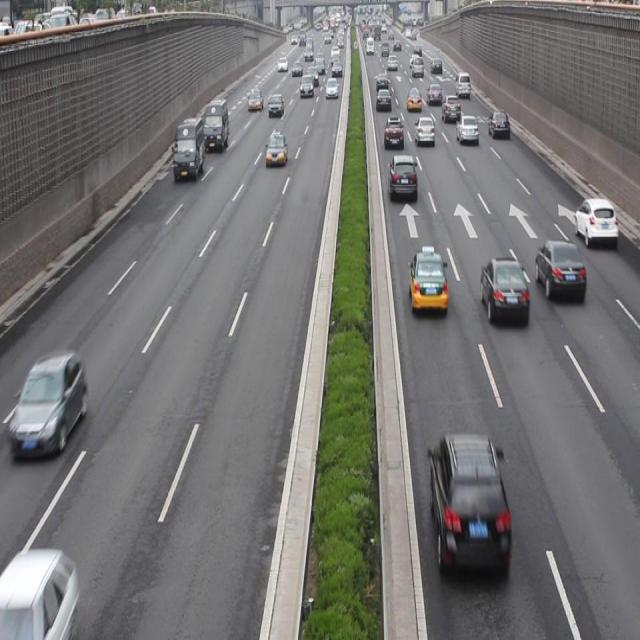car: (430, 432, 510, 574), (14, 350, 86, 458), (1, 550, 78, 640), (535, 238, 585, 305), (480, 257, 528, 325), (406, 249, 447, 314), (573, 195, 616, 244), (264, 131, 287, 166), (383, 115, 404, 149), (488, 108, 510, 140), (456, 113, 478, 144), (414, 115, 435, 146), (441, 94, 460, 122)
truck: (172, 116, 205, 180), (201, 99, 230, 152), (388, 152, 418, 202)
